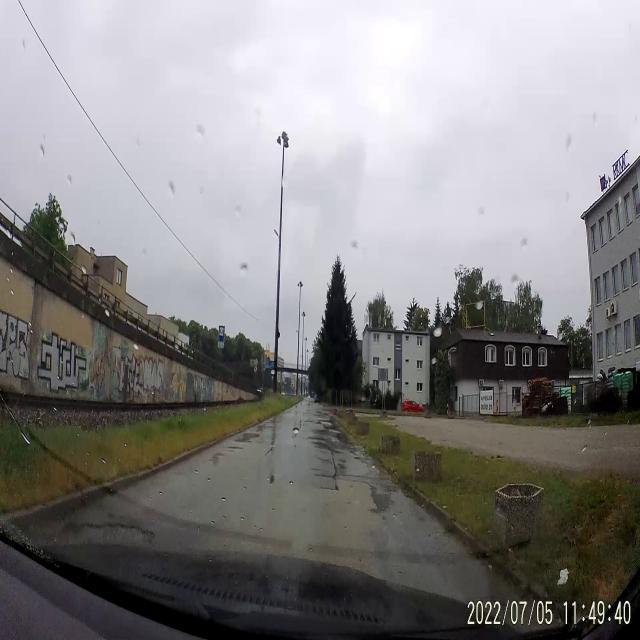Pothole: (57, 516, 159, 551), (310, 468, 345, 497), (226, 444, 244, 456), (268, 471, 276, 484)
